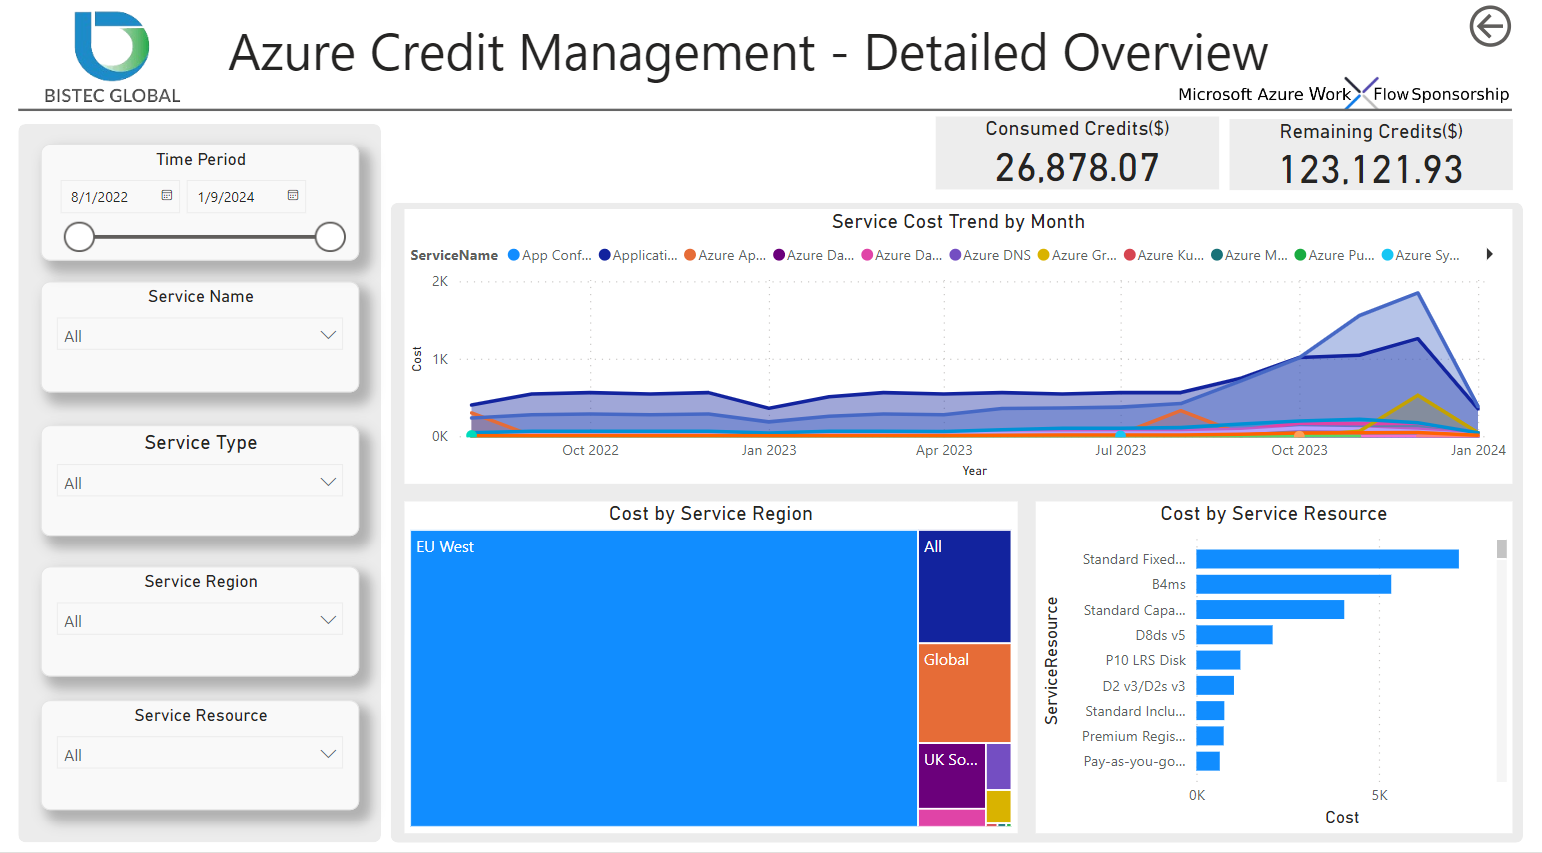

The dashboard page shown, as its layout file describes it:
{"tool":"powerbi","page":{"name":"Detailed Overview","canvas":[1280,720],"ordinal":2},"visuals":[{"type":"image","box":[979.8,54,300.2,57.6],"z":0},{"type":"shape","box":[324.2,171.7,955.8,540.3],"z":0},{"type":"shape","box":[9.6,87.7,1260.8,12],"z":1000},{"type":"shape","box":[9.6,105.7,306.2,606.4],"z":1000},{"type":"treemap","title":"Cost by Service Region","fields":{"Values":["Sum(AzureUsage_Workxflow_10-01-2024.Cost)"],"Group":["AzureUsage_Workxflow_10-01-2024.ServiceRegion"]},"box":[335,423.9,517.5,279.8],"z":2000},{"type":"areaChart","title":"Service Cost Trend by Month","fields":{"Category":["AzureUsage_Workxflow_10-01-2024.Date.Variation.Date Hierarchy.Year","AzureUsage_Workxflow_10-01-2024.Date.Variation.Date Hierarchy.Month"],"Y":["Sum(AzureUsage_Workxflow_10-01-2024.Cost)"],"Series":["AzureUsage_Workxflow_10-01-2024.ServiceName"]},"box":[335,177.7,935.4,231.7],"z":3000},{"type":"card","title":"Remaining Credits($)","fields":{"Values":["AzureUsage_Workxflow_10-01-2024.Remaining_cost"]},"box":[1031.4,100.9,238.9,60],"z":4000},{"type":"card","title":"Consumed Credits($)","fields":{"Values":["Sum(AzureUsage_Workxflow_10-01-2024.Cost)"]},"box":[784.1,99.7,238.9,61.2],"z":5000},{"type":"image","box":[9.6,1.2,159.7,104.5],"z":6000},{"type":"textbox","box":[181.3,8.4,922.2,91.3],"z":7000},{"type":"slicer","title":"Service Name","fields":{"Values":["AzureUsage_Workxflow_10-01-2024.ServiceName"]},"box":[28.8,238.9,269,93.7],"z":8000},{"type":"slicer","title":"Service Region","fields":{"Values":["AzureUsage_Workxflow_10-01-2024.ServiceRegion"]},"box":[28.8,479.1,269,92.5],"z":9000},{"type":"slicer","title":"Service Resource","fields":{"Values":["AzureUsage_Workxflow_10-01-2024.ServiceResource"]},"box":[28.8,592,269,92.5],"z":10000},{"type":"slicer","title":"Service Type","fields":{"Values":["AzureUsage_Workxflow_10-01-2024.ServiceType"]},"box":[28.8,360.2,269,93.7],"z":11000},{"type":"slicer","title":"Time Period","fields":{"Values":["AzureUsage_Workxflow_10-01-2024.Date"]},"box":[28.8,122.5,269,98.5],"z":12000},{"type":"clusteredBarChart","title":"Cost by Service Resource","fields":{"Category":["AzureUsage_Workxflow_10-01-2024.ServiceResource"],"Y":["Sum(AzureUsage_Workxflow_10-01-2024.Cost)"]},"box":[868.1,423.9,402.3,279.8],"z":13001},{"type":"actionButton","box":[1228.9,0,50.7,45.8],"z":13002}]}

Visuals, with their boxes in screenshot pixels (x1, y1, x2, y2), scaled from the page's 1280x720 canvas onto the 1542x853 screenshot:
image: region(1180, 64, 1541, 132)
shape: region(391, 203, 1541, 844)
shape: region(12, 104, 1530, 118)
shape: region(12, 125, 380, 844)
"Cost by Service Region" treemap: region(404, 502, 1027, 834)
"Service Cost Trend by Month" areaChart: region(404, 211, 1530, 485)
"Remaining Credits($)" card: region(1243, 120, 1530, 191)
"Consumed Credits($)" card: region(945, 118, 1232, 191)
image: region(12, 1, 204, 125)
textbox: region(218, 10, 1329, 118)
"Service Name" slicer: region(35, 283, 359, 394)
"Service Region" slicer: region(35, 568, 359, 677)
"Service Resource" slicer: region(35, 701, 359, 811)
"Service Type" slicer: region(35, 427, 359, 538)
"Time Period" slicer: region(35, 145, 359, 262)
"Cost by Service Resource" clusteredBarChart: region(1046, 502, 1530, 834)
actionButton: region(1480, 0, 1541, 54)
